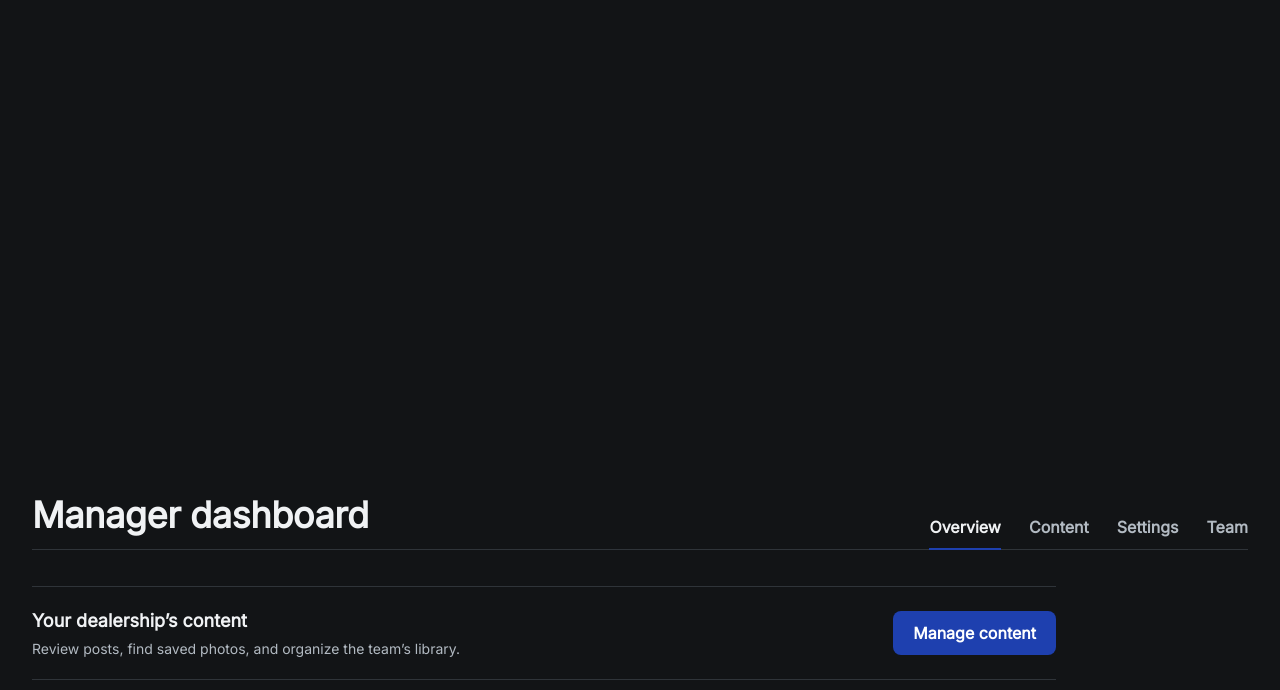
Scenario: settings rail › marks ready, partial, empty and Workflow sections from the saved record
(page scrolled)
What coordinates should you click on to do the following:
click the tab "Settings"
I would click on:
 (1148, 528)
Its box is [1117,506,1178,550].
(page scrolled)
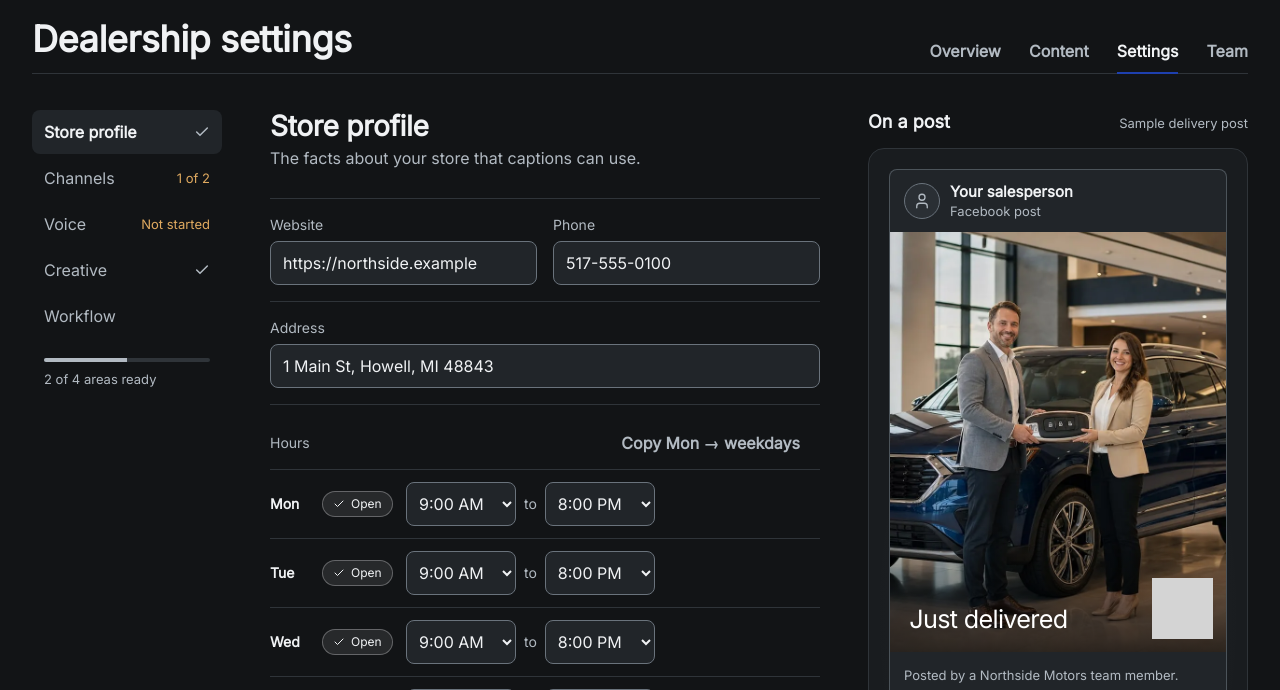
Expected: the text "2 of 4 areas ready" is shown, [44,371,156,387]
